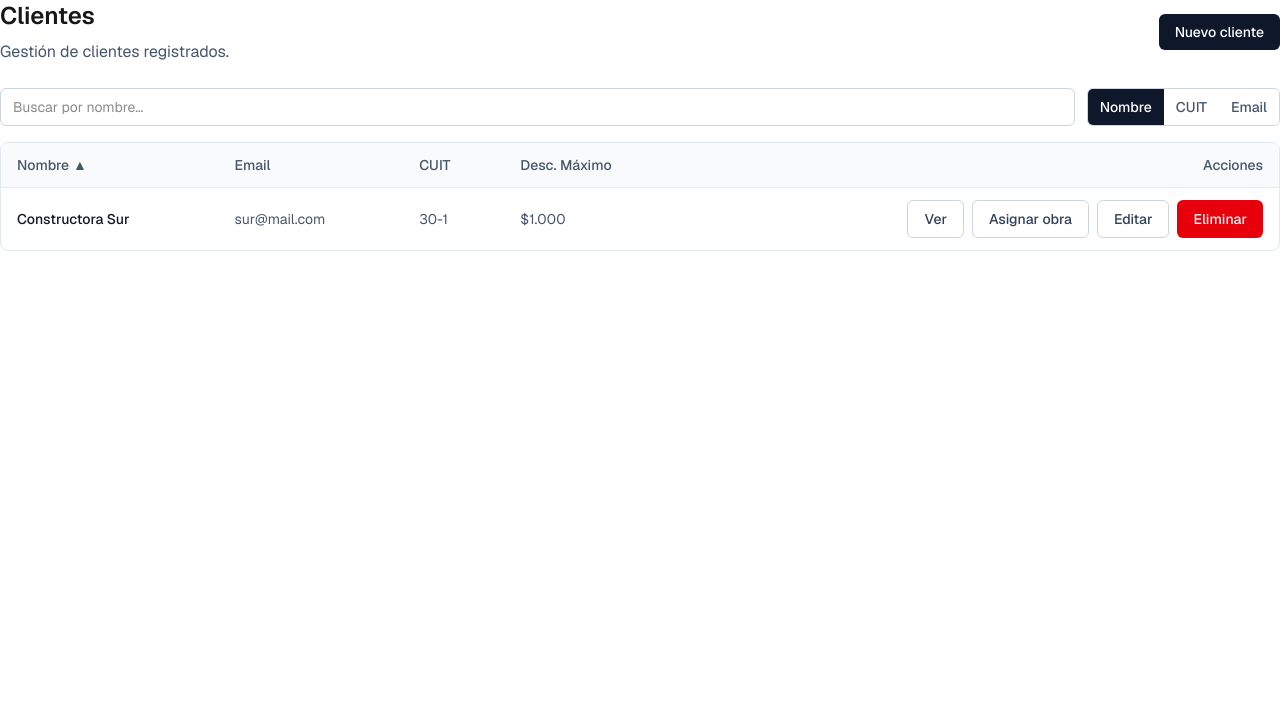
Scenario: borrar sin dialogos nativos › cancelar no borra
Check: the text "Constructora Sur" is shown, box [1,188,218,250]
Click the button "Eliminar" at (1220, 219), box [1178,200,1263,238]
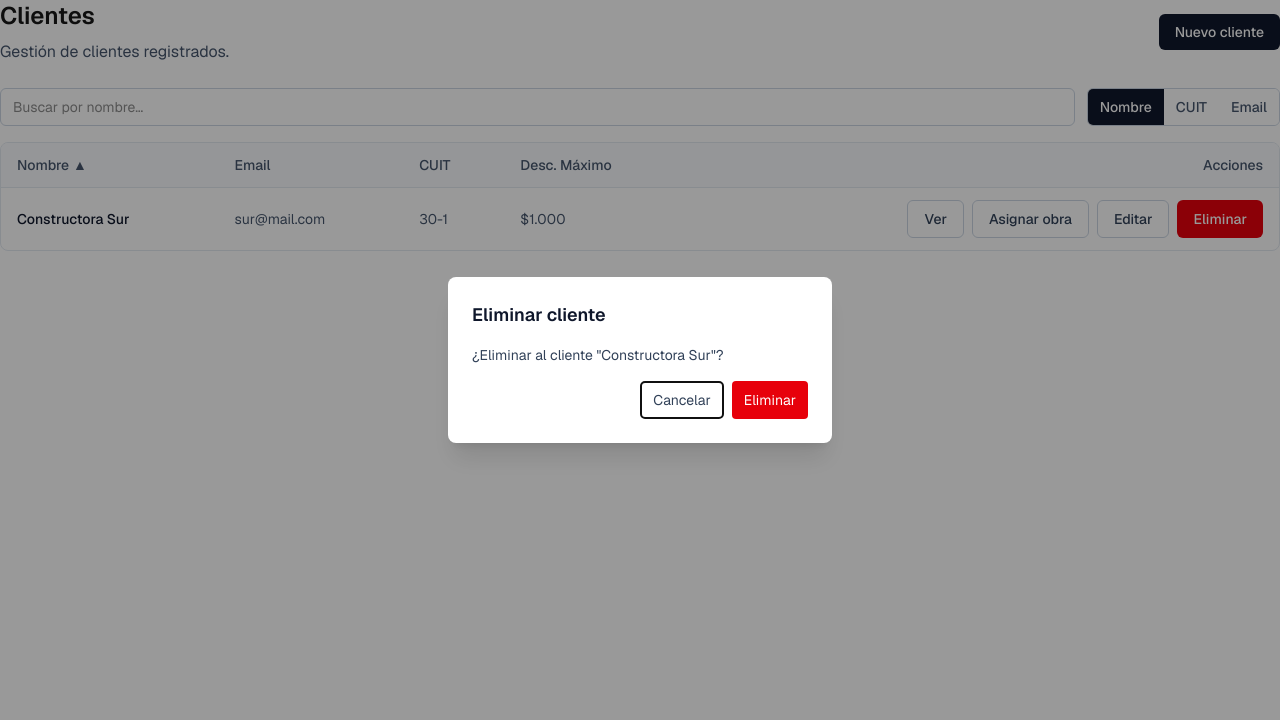
Click the button "Cancelar" at (682, 400), box [640,381,724,419]
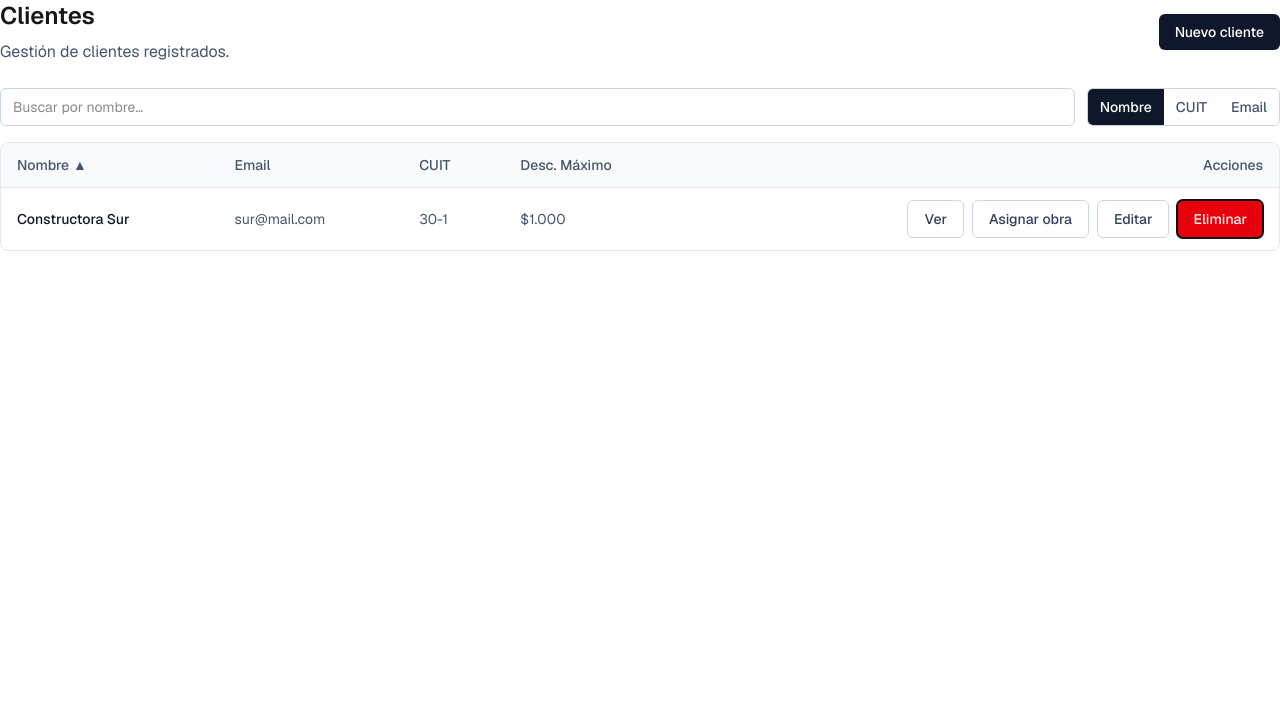
Check: the dialog is gone
